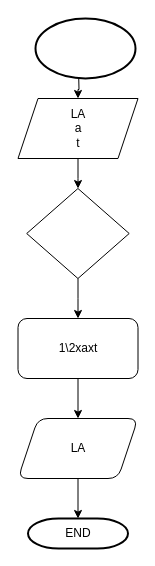
Some shapes in this 155 by 566 pixel diagram are drawn without their labels. Each missing label, with the box of its shape:
LA=1\2xaxt: (26, 188, 129, 278)
START: (34, 17, 136, 79)
